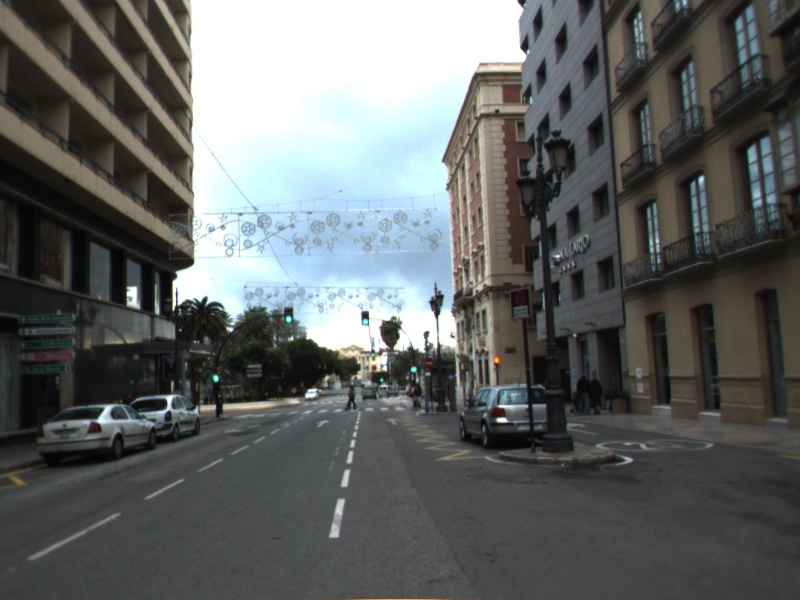RIGHT: (566, 421, 601, 437)
STRAIGHT: (313, 418, 333, 430), (383, 415, 402, 427)
STRAIGHT_LEFT: (223, 422, 263, 435)
